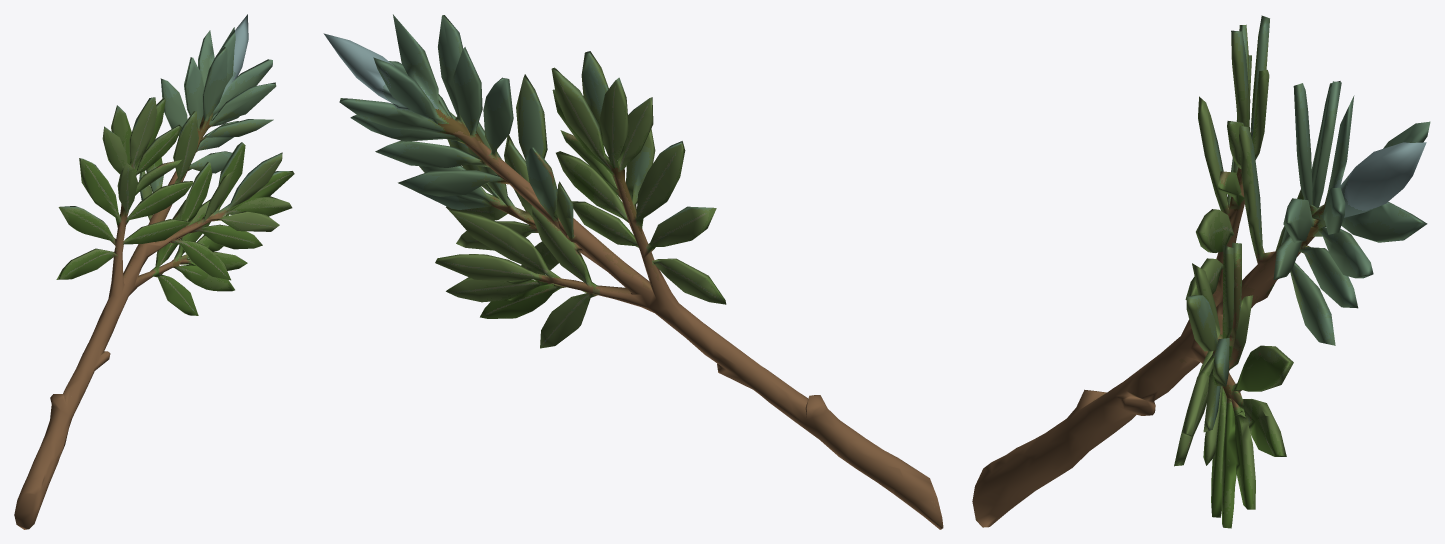
File: rama.glb
3 views of the same model, side by side, from view 1: azimuth 30°, elevation 25°; view 2: azimuth 150°, elevation 25°; view 3: azimuth 270°, elevation 25° (orthographic). The views are drawn at different scales.
Visible parts, largest first — view 1: tripo_node_96045584-5714-4980-8cbc-febe923143ba; view 2: tripo_node_96045584-5714-4980-8cbc-febe923143ba; view 3: tripo_node_96045584-5714-4980-8cbc-febe923143ba.
Boxes of the visible parts, x1=… form: tripo_node_96045584-5714-4980-8cbc-febe923143ba: x1=14, y1=14, x2=294, y2=529; tripo_node_96045584-5714-4980-8cbc-febe923143ba: x1=323, y1=14, x2=943, y2=529; tripo_node_96045584-5714-4980-8cbc-febe923143ba: x1=972, y1=15, x2=1430, y2=528.
Size of the model in its own units: 0.9842 by 1 by 0.5717.
1 material, 1 textured.
